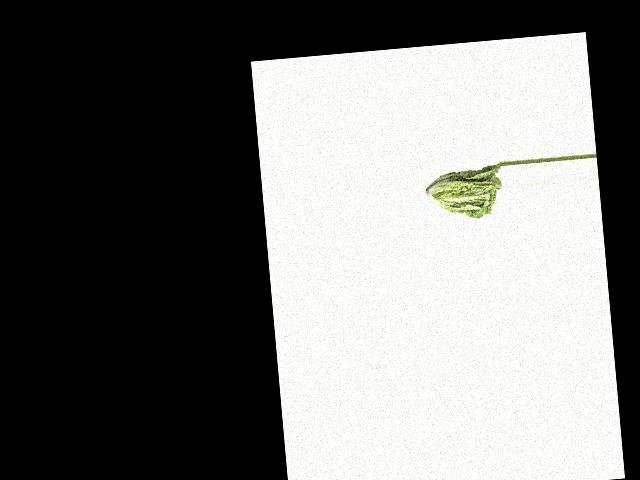lettuce: (425, 164, 504, 225)
